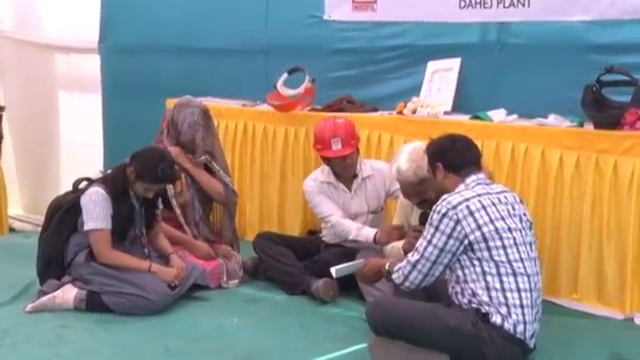helmet: (306, 117, 362, 159)
helmet_off: (159, 100, 219, 168), (424, 134, 484, 196), (122, 148, 179, 203), (394, 146, 441, 210)
helmet_on: (306, 117, 364, 185)
person: (361, 133, 544, 360), (248, 104, 411, 298), (25, 149, 203, 316), (142, 93, 242, 291), (356, 145, 439, 283)
